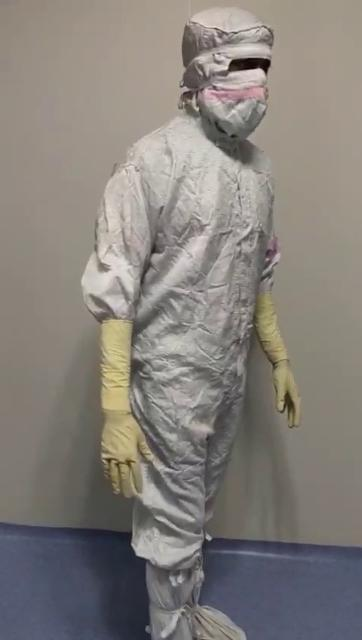boot_secured: (130, 488, 250, 640)
gloves_fitted_securely: (78, 300, 172, 498), (240, 276, 316, 444)
headgear_secured: (174, 3, 292, 147)
